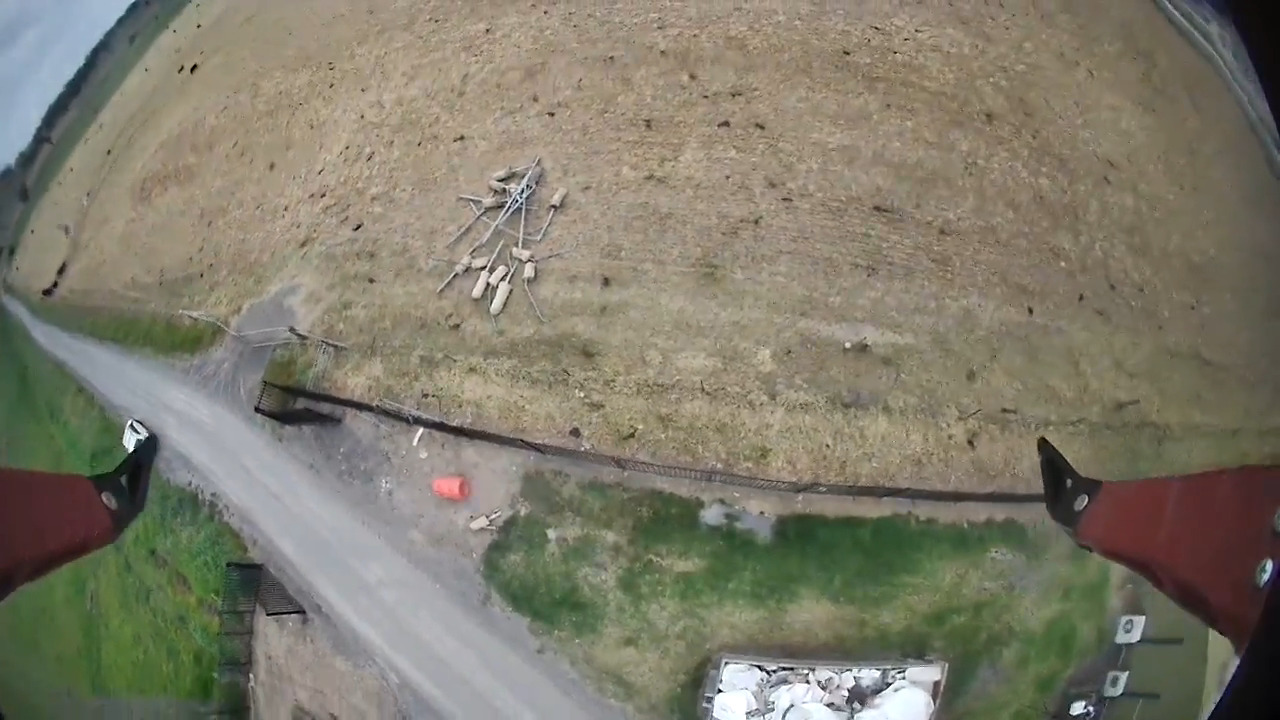Car: (120, 417, 157, 454)
